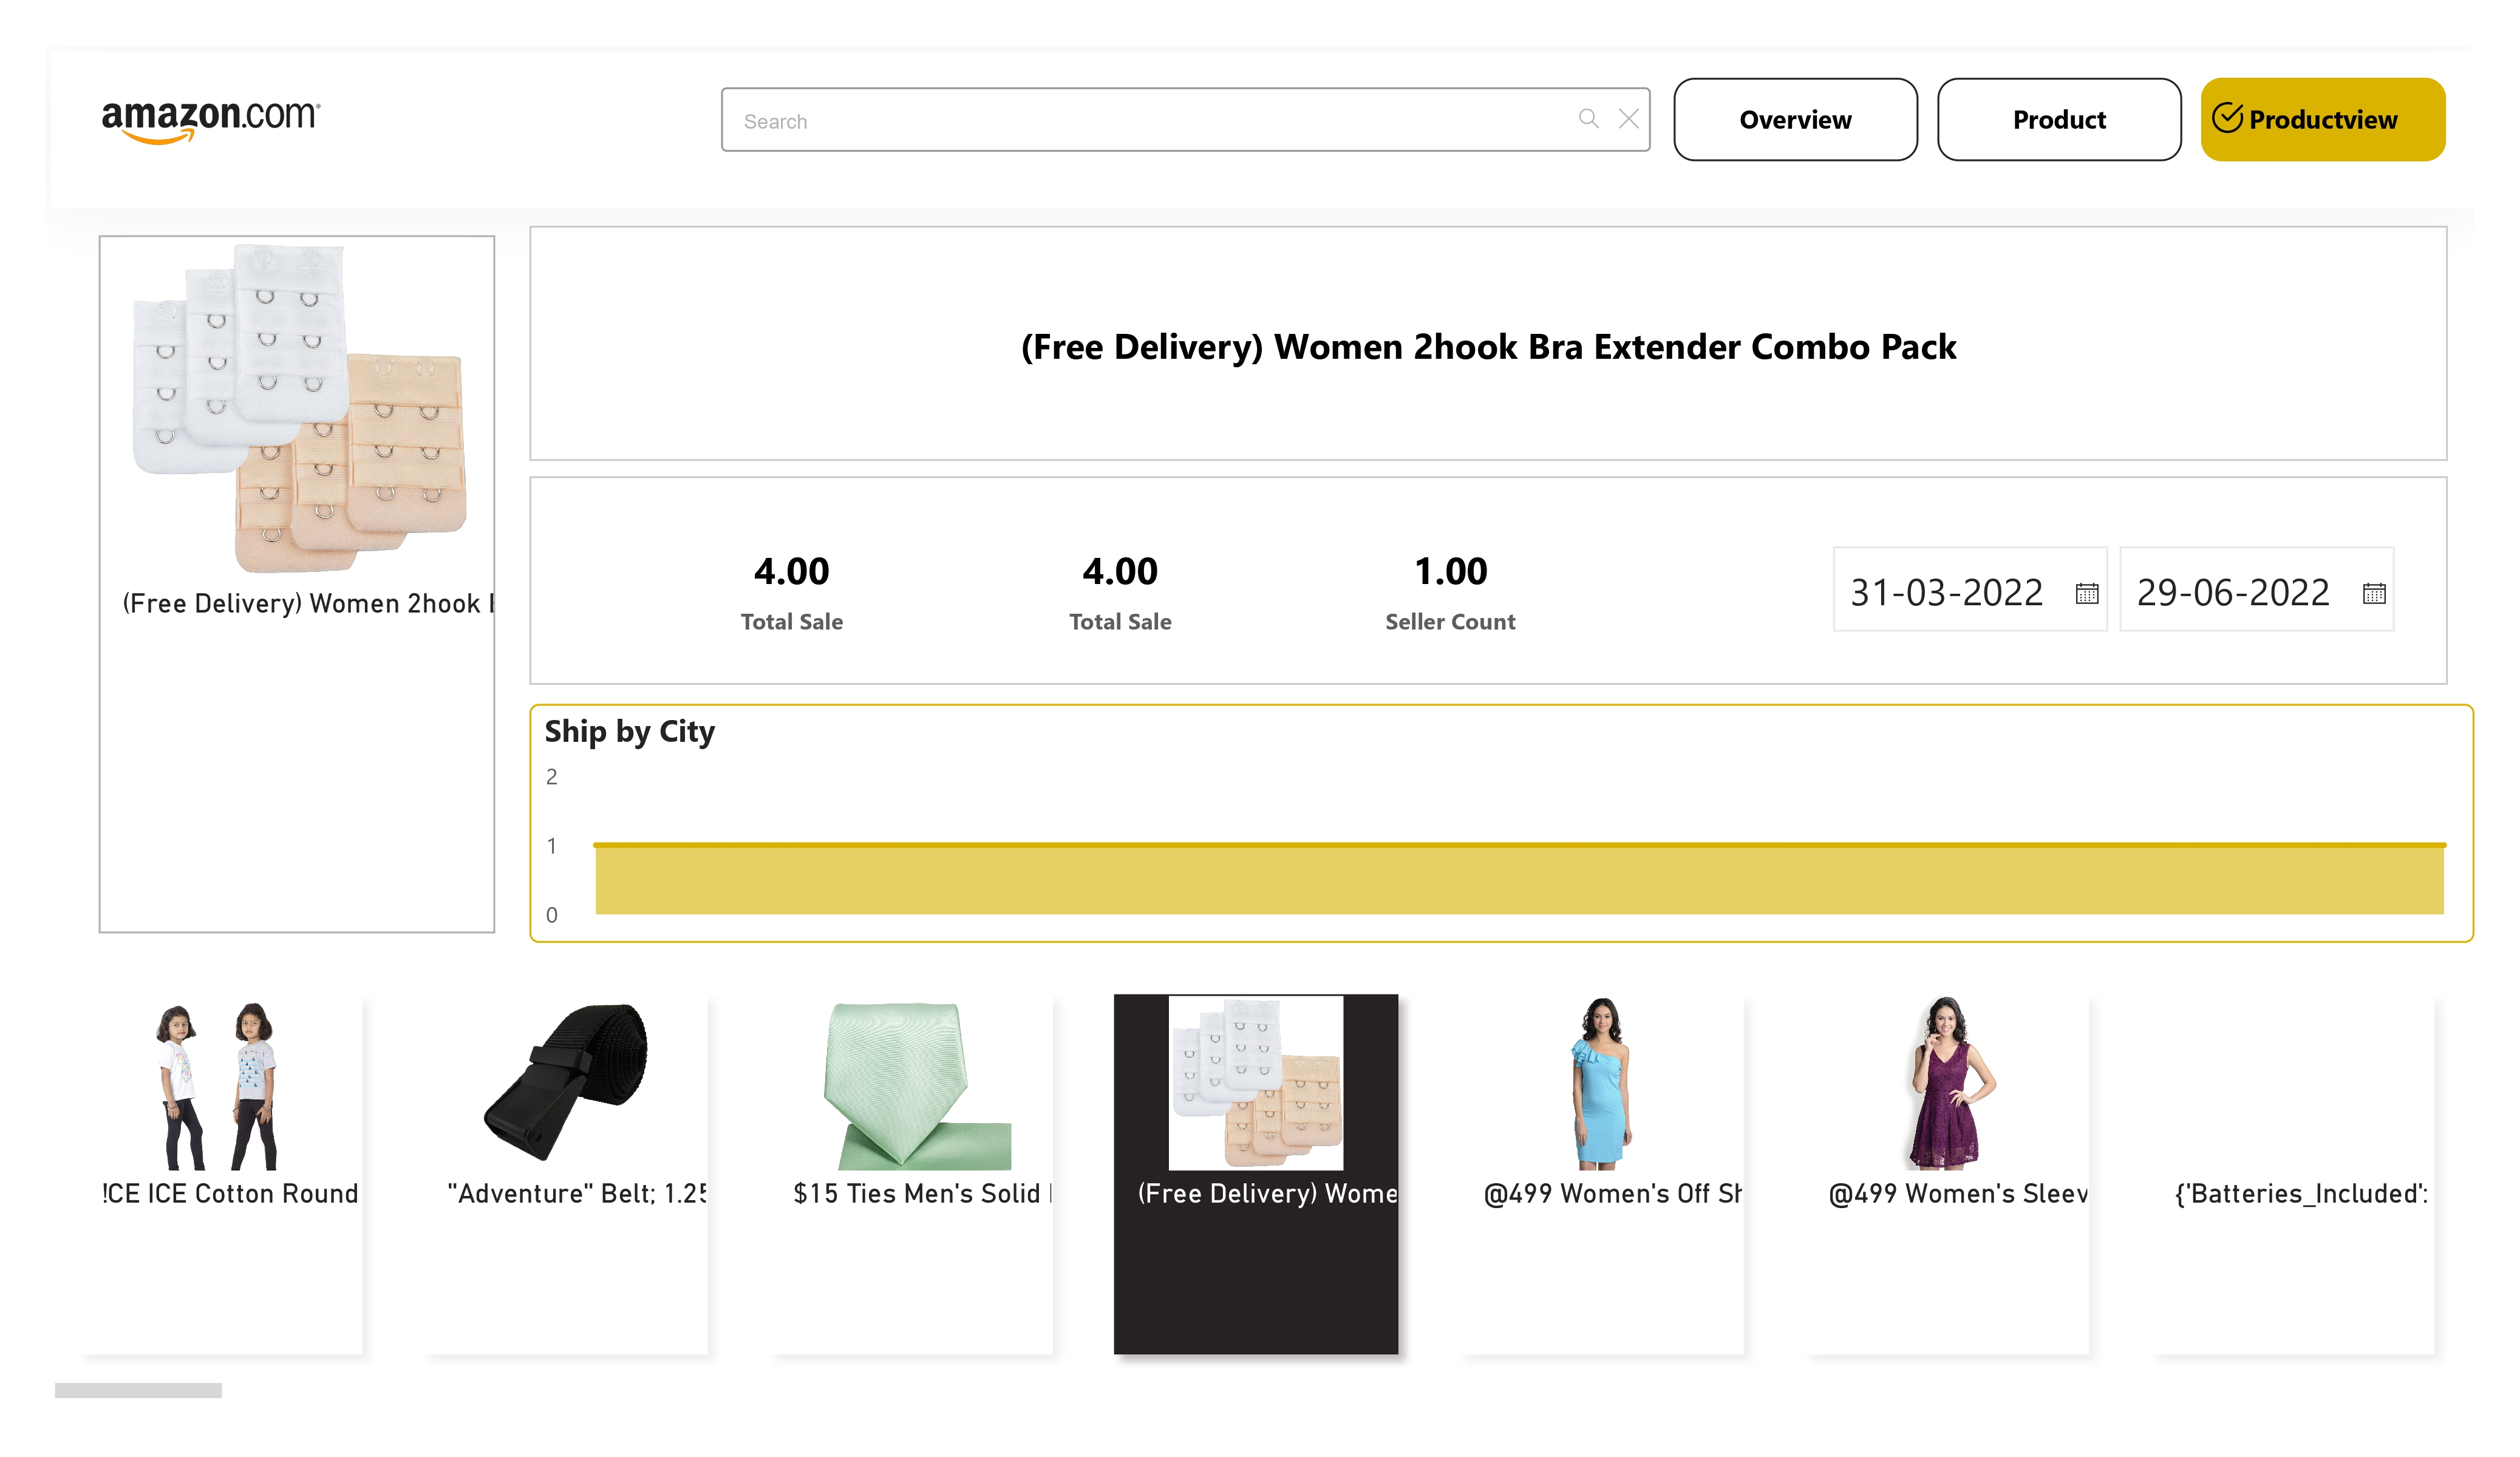

Layout of this report page (visuals, bound fields, positions):
{"tool":"powerbi","page":{"name":"Productview","canvas":[1280,720],"ordinal":2},"visuals":[{"type":"shape","box":[3.3,3.1,1280,83],"z":0},{"type":"image","box":[11,0.2,152.7,82.6],"z":1000},{"type":"pageNavigator","box":[857.9,16.5,408.1,44.2],"z":2000},{"type":"image","box":[1126.3,23.3,46.7,30.2],"z":3000},{"type":"textSearchSlicerF85E2E78BE4A4D7D9F99ED75B5D71C85","fields":{"fields":["amazon-fashion - YT.Category"]},"box":[350.5,16.6,500.6,55],"z":4000},{"type":"advancedSlicerVisual","fields":{"Values":["amazon-fashion - YT.product_name"]},"box":[0,483.1,1280,237],"z":6000},{"type":"advancedSlicerVisual","fields":{"Values":["amazon-fashion - YT.product_name"]},"box":[22.6,94.8,219,378.1],"z":7000},{"type":"shape","box":[255.1,226.9,1011.4,110.6],"z":8000},{"type":"shape","box":[255.1,94.8,1011.4,124.2],"z":9000},{"type":"card","fields":{"Values":["Amazon.All_Overall_Sale"]},"box":[489.9,244.9,153.5,82.4],"z":10000},{"type":"card","fields":{"Values":["Amazon.All_Overall_Sale"]},"box":[312.7,244.9,161.4,82.4],"z":11000},{"type":"card","fields":{"Values":["Amazon.seller_count"]},"box":[671.6,244.9,137.7,82.4],"z":12000},{"type":"slicer","fields":{"Values":["Amazon.Date"]},"box":[929,254,327.3,73.4],"z":13000},{"type":"areaChart","title":"Ship by City ","fields":{"Y":["Amazon.Sale_Unit"],"Category":["Amazon.Date"]},"box":[255.1,346.5,1024.9,126.4],"z":14000}]}

Visuals, with their boxes on the page's 1280x720 design canvas (x1, y1, x2, y2). These are canvas units, not pixel positions in the 2520x1457 screenshot, which may show the page scaled, cropped or inside an application window:
shape: box(3, 3, 1283, 86)
image: box(11, 0, 164, 83)
pageNavigator: box(858, 16, 1266, 61)
image: box(1126, 23, 1173, 54)
textSearchSlicerF85E2E78BE4A4D7D9F99ED75B5D71C85 - amazon-fashion - YT.Category: box(350, 17, 851, 72)
advancedSlicerVisual - amazon-fashion - YT.product_name: box(0, 483, 1280, 720)
advancedSlicerVisual - amazon-fashion - YT.product_name: box(23, 95, 242, 473)
shape: box(255, 227, 1266, 338)
shape: box(255, 95, 1266, 219)
card - Amazon.All_Overall_Sale: box(490, 245, 643, 327)
card - Amazon.All_Overall_Sale: box(313, 245, 474, 327)
card - Amazon.seller_count: box(672, 245, 809, 327)
slicer - Amazon.Date: box(929, 254, 1256, 327)
"Ship by City " areaChart: box(255, 346, 1280, 473)
